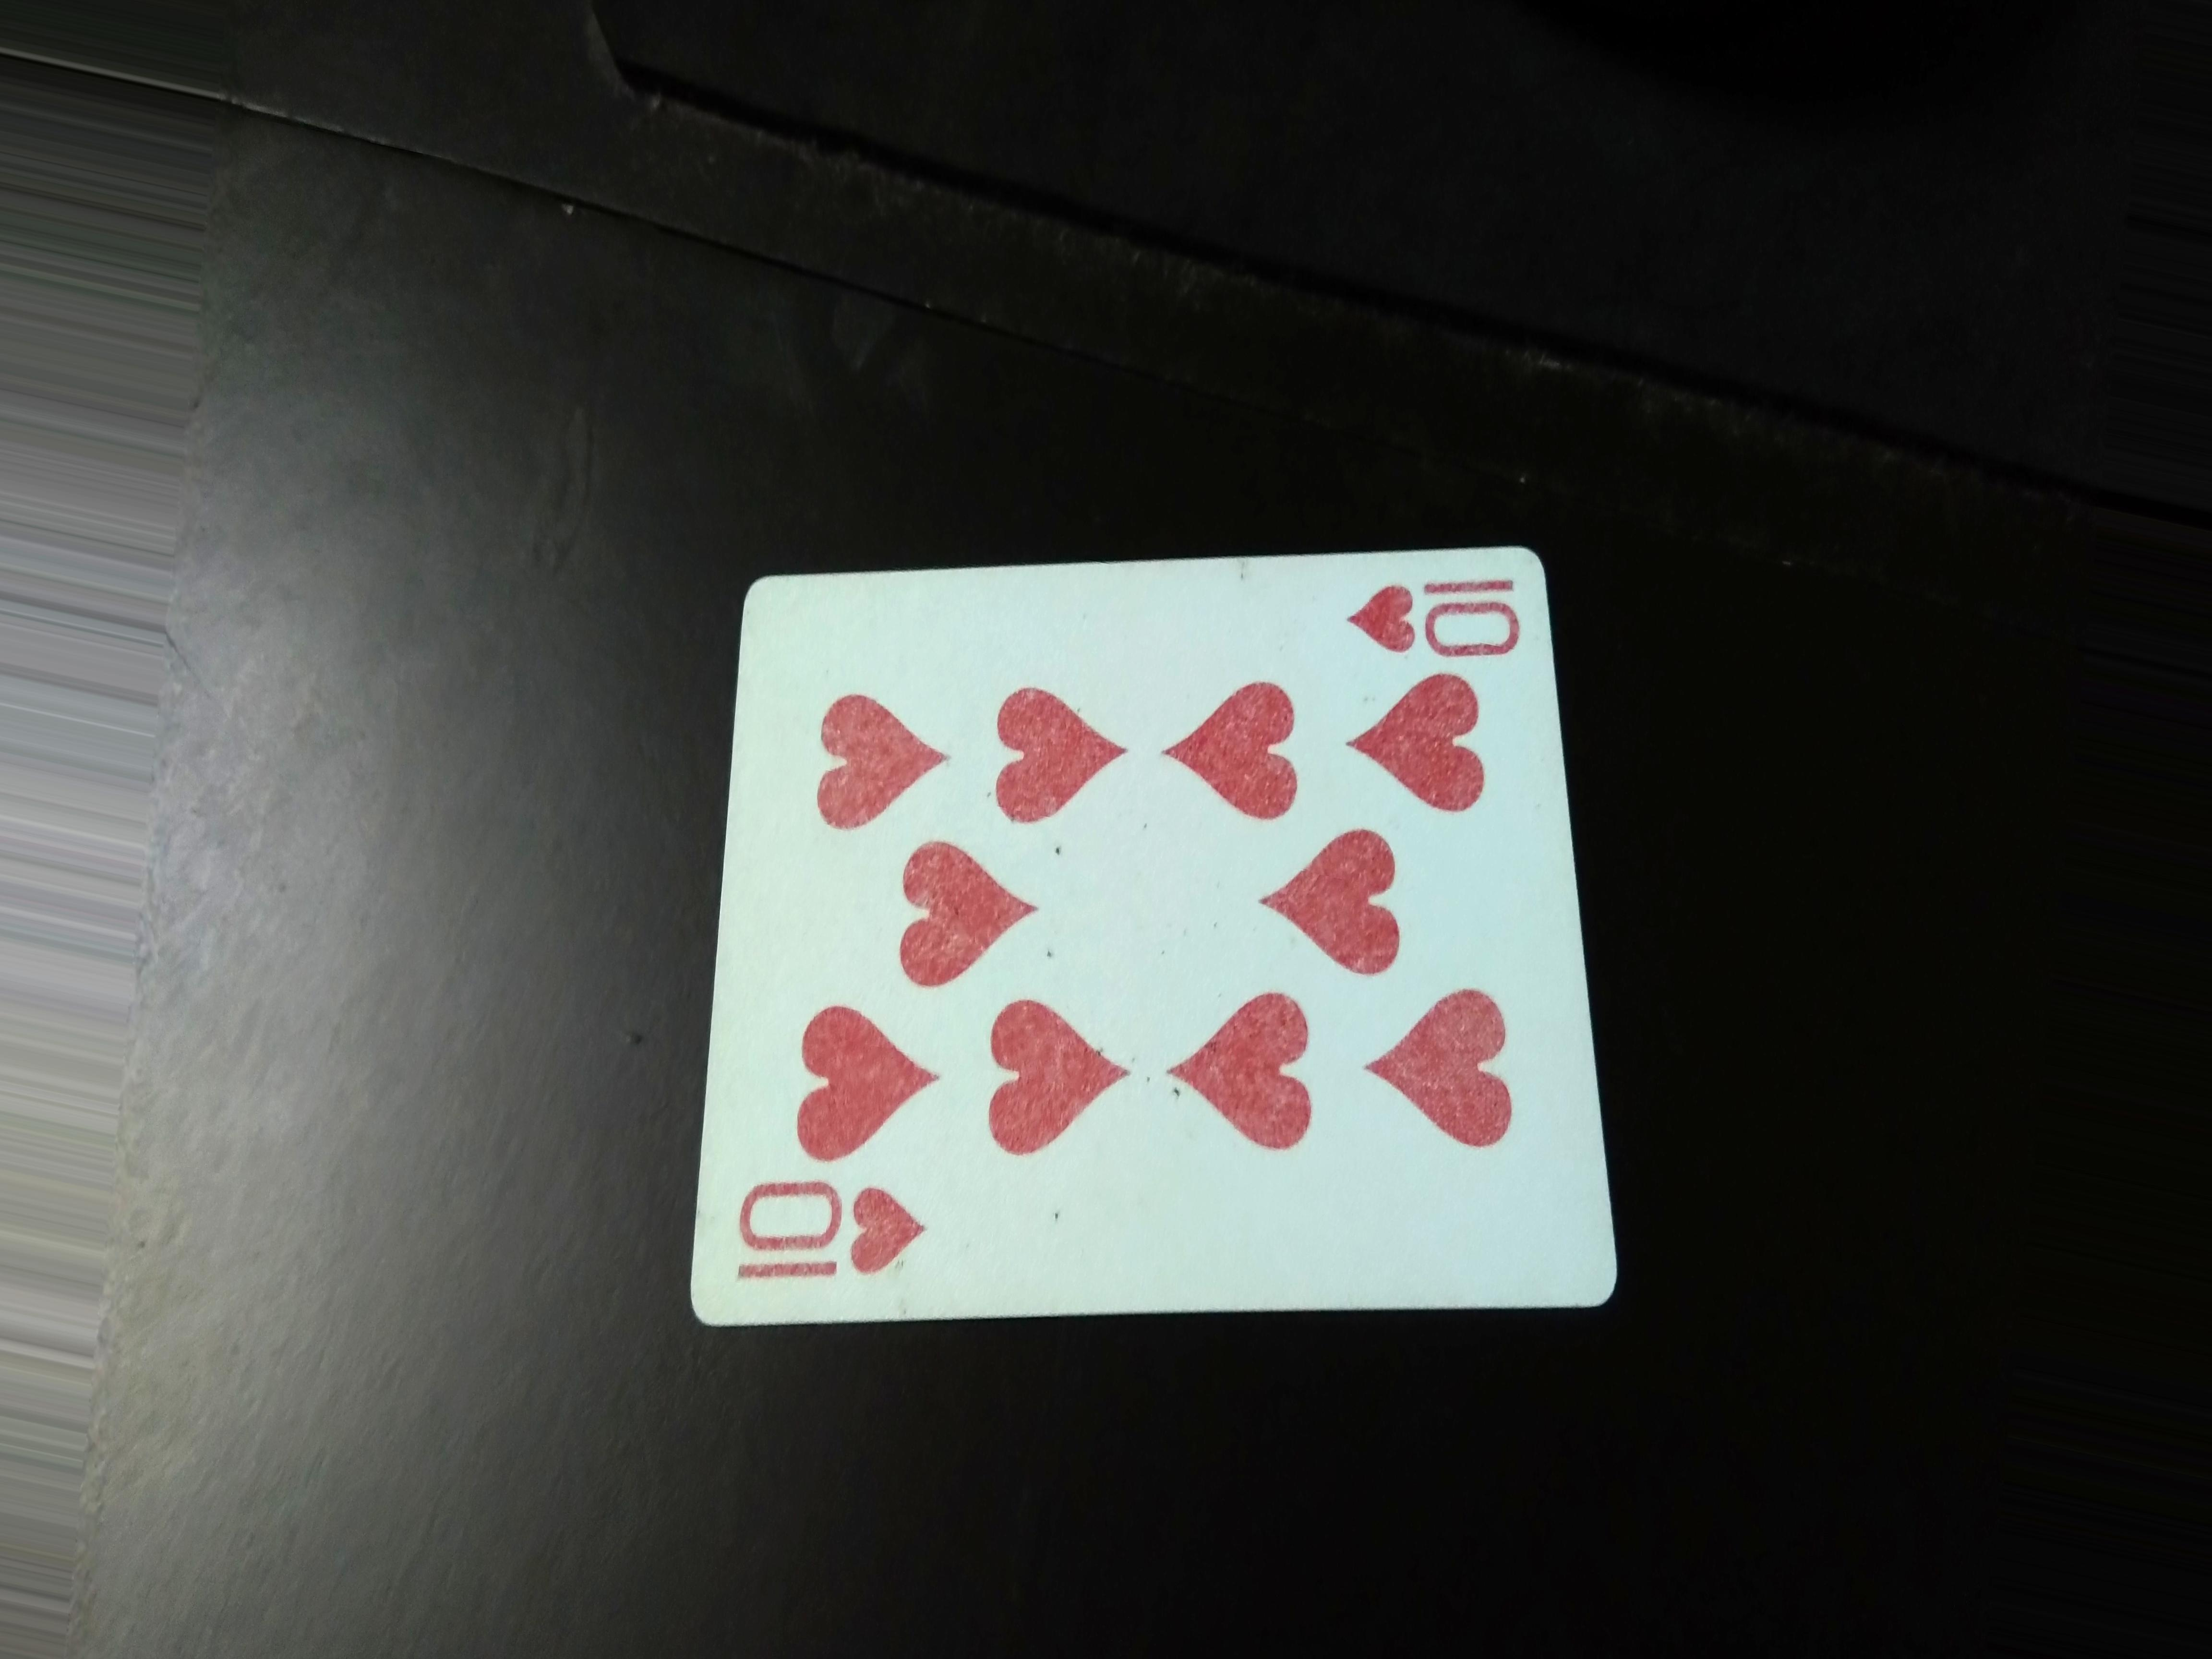10H: (716, 1176, 944, 1300)
